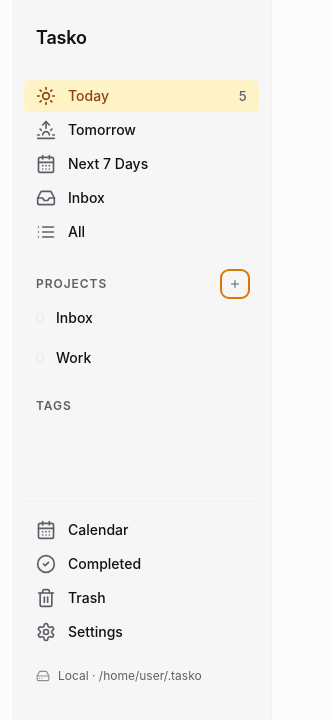
Scenario: Sidebar — delete project cascade › right-clicking a project opens context menu with Delete option
Right-click the list item "Work" at (64, 358), box [36,349,91,366]
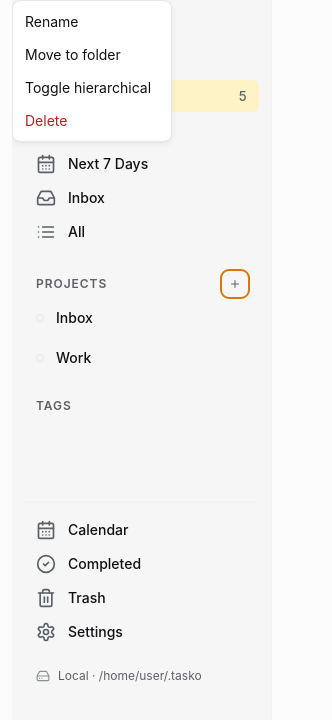
expect the menu item "Delete" is shown: met, box [13,104,171,137]
